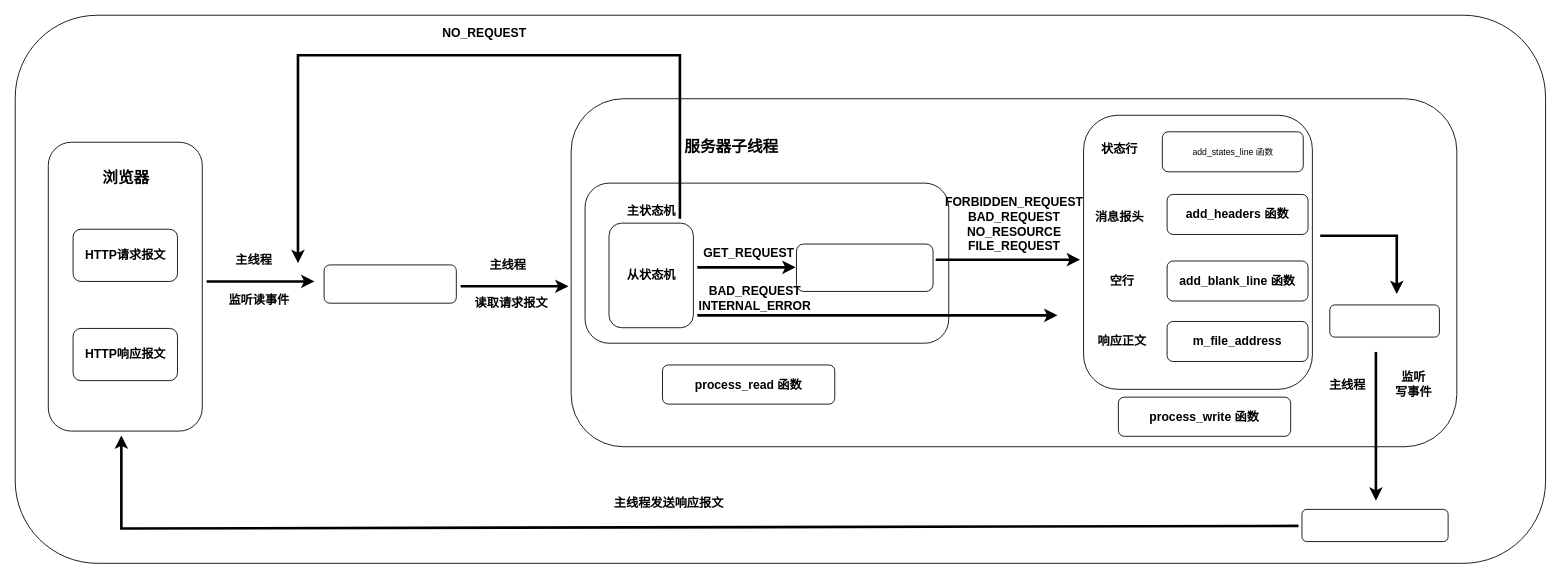
The diagram is 1561 pixels wide and 579 high, and some of its shapes have lost their labels. The shapes that lost their labels are listed below. From the top down, each one's centre as x and y in pixels, then its label:
(389,283): read_once 函数
(864,267): do_request 函数
(1384,320): 响应报文 写入iovec
(1374,525): http_conn::write 函数
